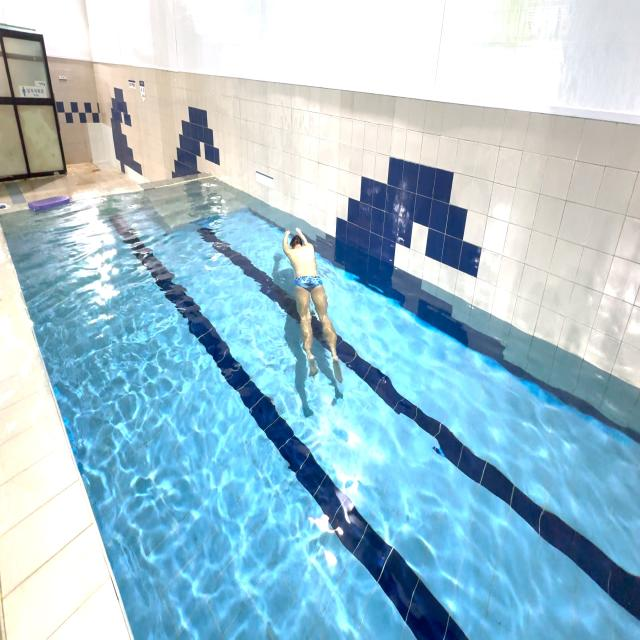Swimming: (268, 216, 348, 396)
